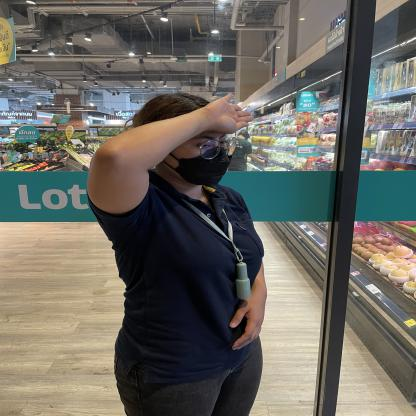Sick: (83, 77, 274, 155)
